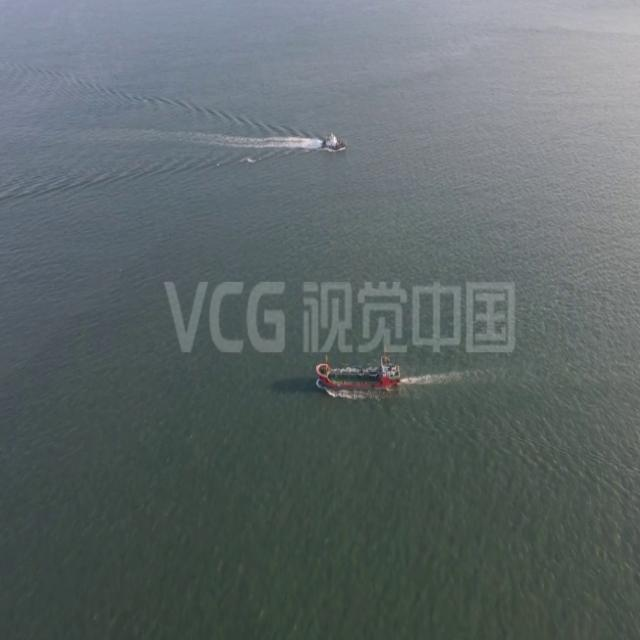cargoship: (314, 344, 406, 400), (322, 127, 346, 152)
